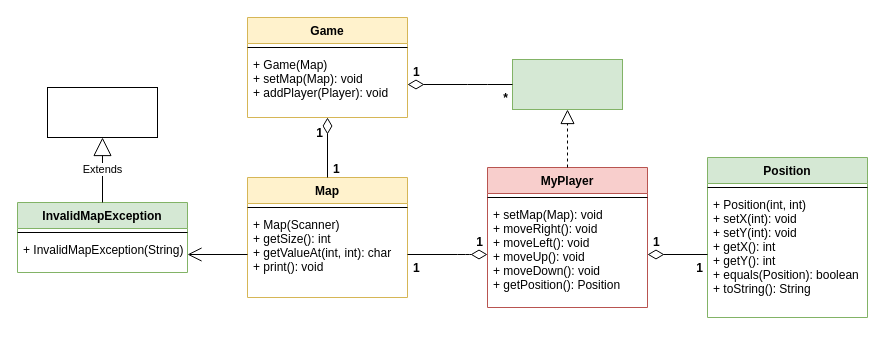
The diagram is 885 pixels wide and 338 high, and some of its shapes have lost their labels. Each missing label, with the centre of its shape:
Exception: the point at 102,112
«interface» Player: the point at 567,84
